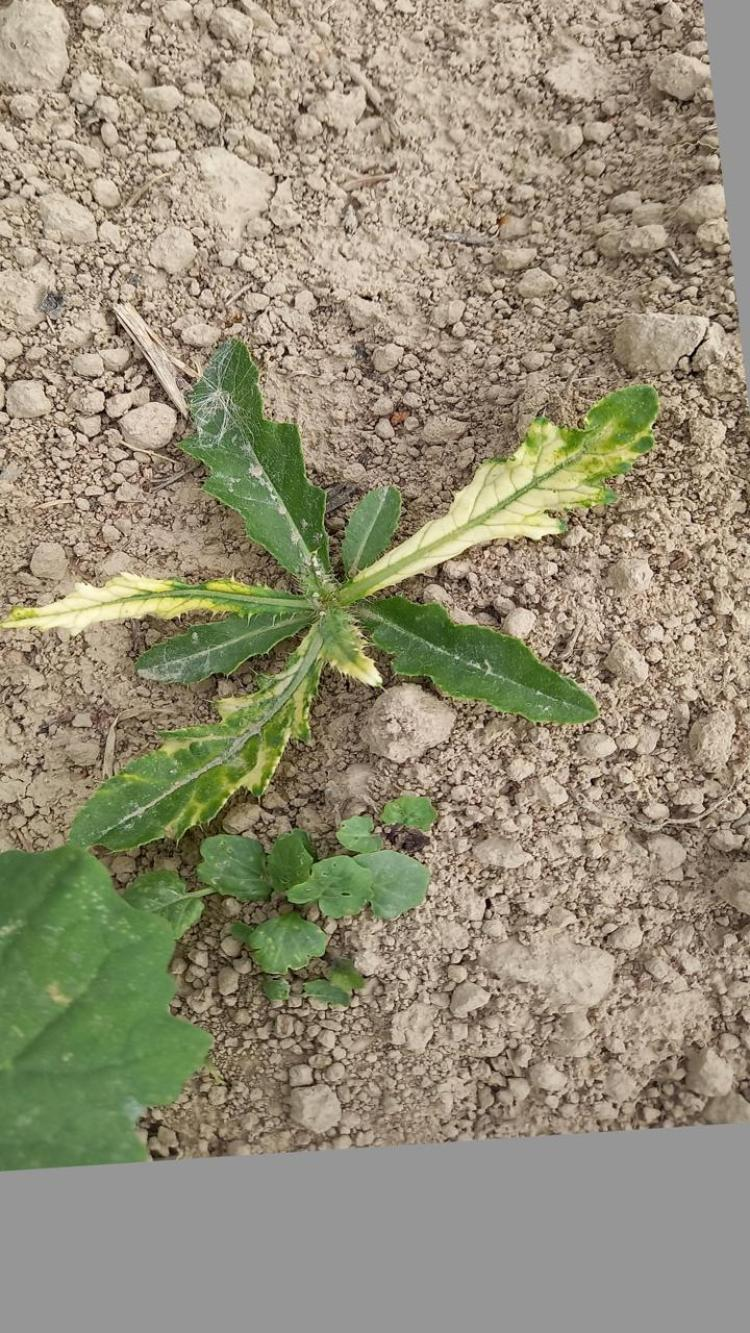bodyak: (0, 343, 658, 862)
